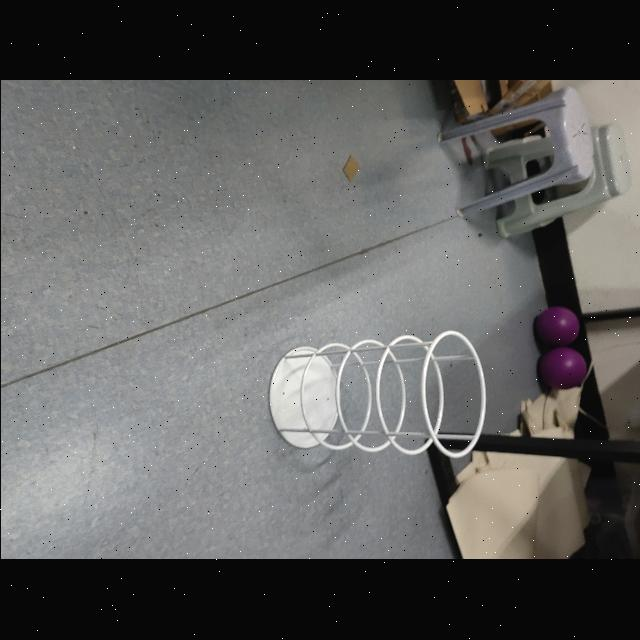S: (264, 329, 488, 459)
